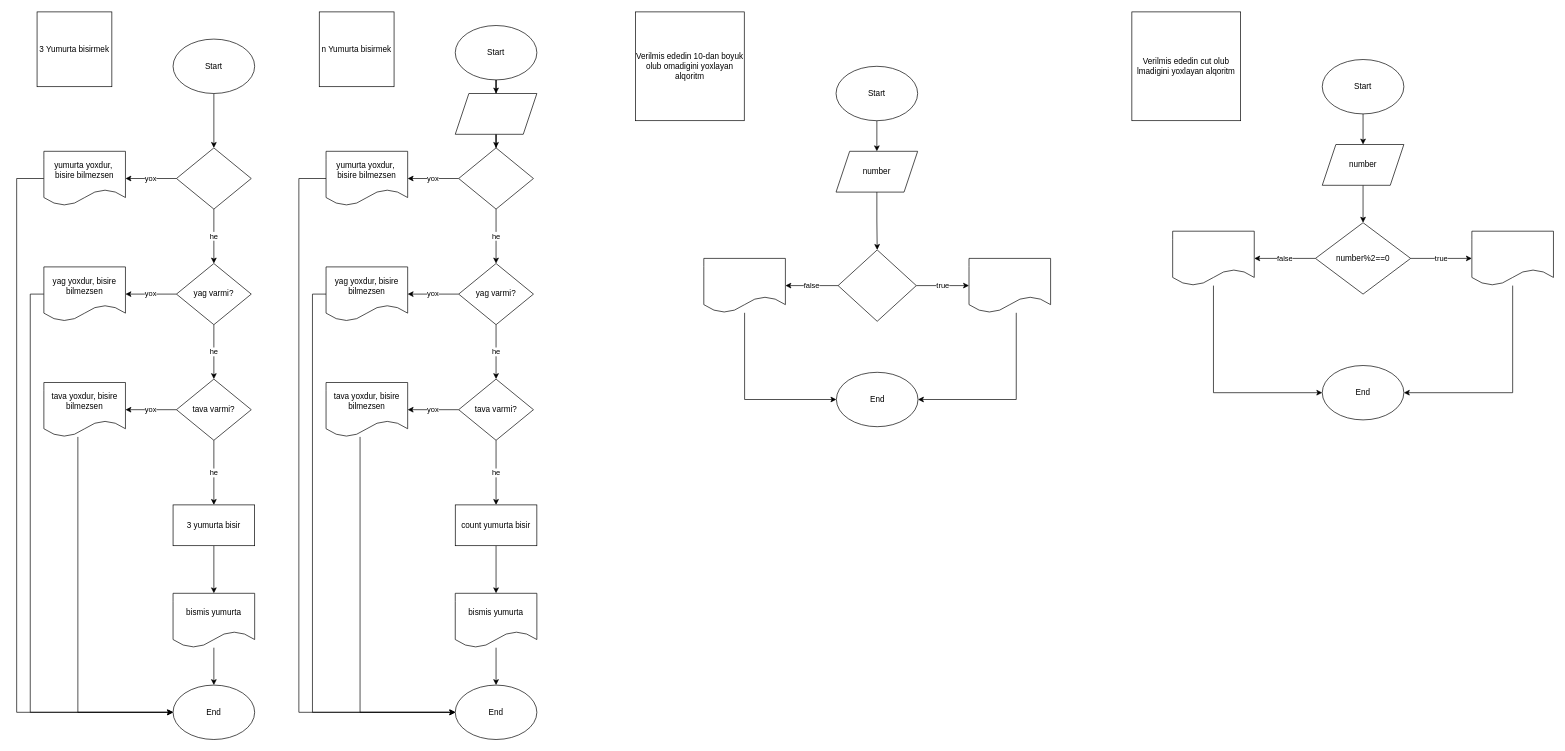
This 1565x751 diagram has some shape labels left out. The shapes that lost their labels are listed below. From the top down, each one's centre as x and y in pixels, then its label:
At point 496,113: "count".
At point 213,178: "3 yumurta varmi?".
At point 495,178: "count sayda yumurta varmi?".
At point 1213,258: "tekdir".
At point 1512,258: "cutdur".
At point 744,285: "xeyr".
At point 876,285: "number>10".
At point 1009,285: "beli".
